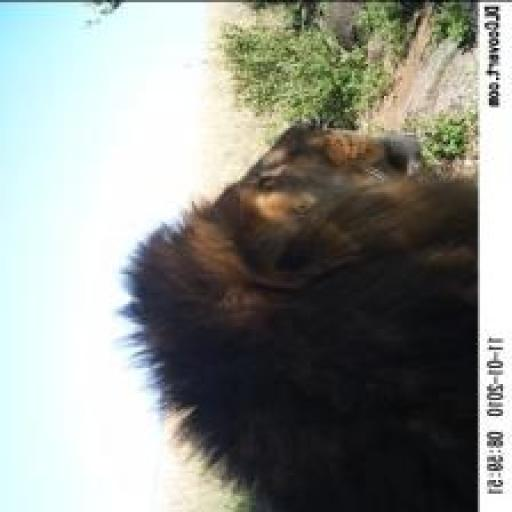lion: (96, 112, 482, 512)
